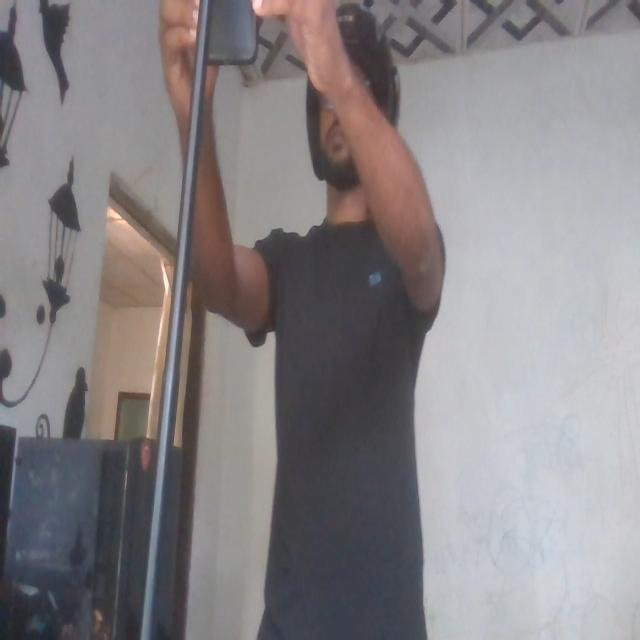Helmet_Wearer: (296, 0, 406, 196)
Person: (236, 0, 446, 640)
